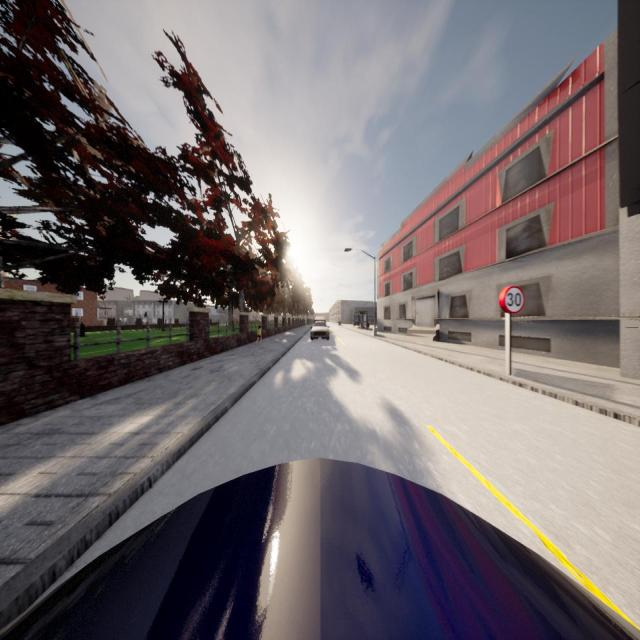Pedestrian: (255, 326, 262, 342)
Traffic_Signs: (498, 284, 526, 315)
Vehicle: (0, 458, 640, 640), (310, 321, 329, 341), (314, 316, 327, 321)
